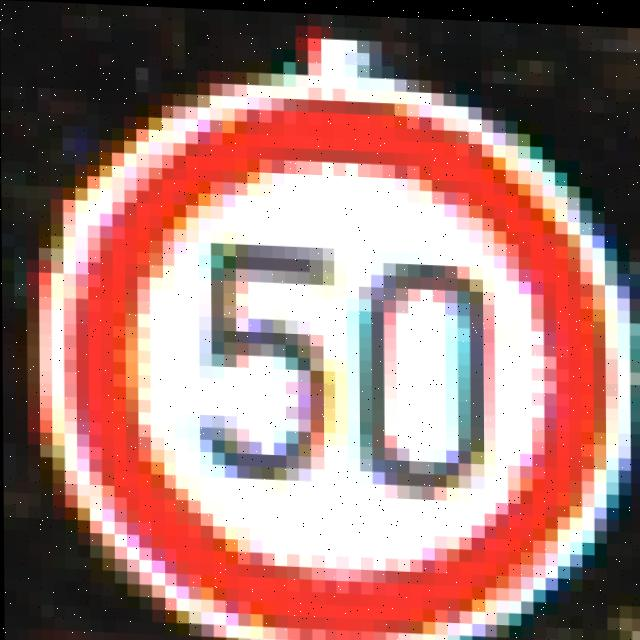speed_limit_50: (38, 76, 640, 640)
